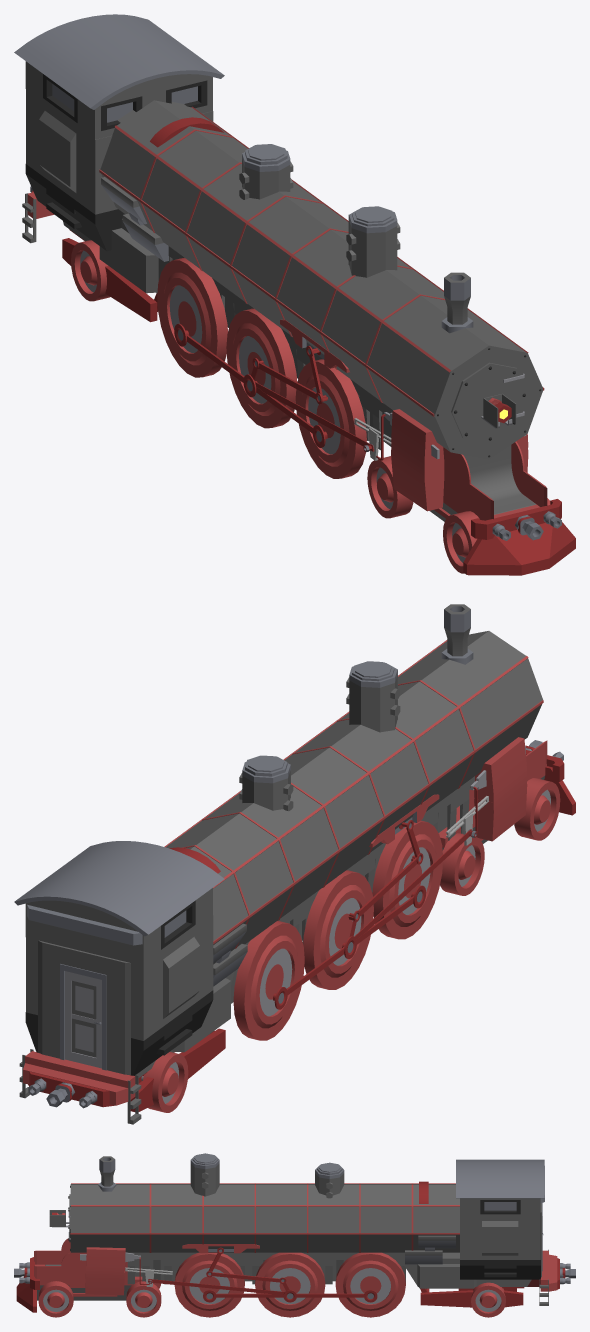
Rendered from train.glb.
The picture shows the model from 3 angles, top to bottom: view 1: azimuth 30°, elevation 25°; view 2: azimuth 150°, elevation 25°; view 3: azimuth 270°, elevation 25°; orthographic projection. The views are drawn at different scales.
Parts seen in each view (by area): view 1: mergedBlocks; view 2: mergedBlocks; view 3: mergedBlocks.
Part boxes in pixels (x1,y1,x2,y2): mergedBlocks: [14, 14, 575, 575]; mergedBlocks: [14, 604, 575, 1124]; mergedBlocks: [14, 1153, 575, 1317].
Bounding box in the file's own units: 2.74 × 4.93 × 17.07.
